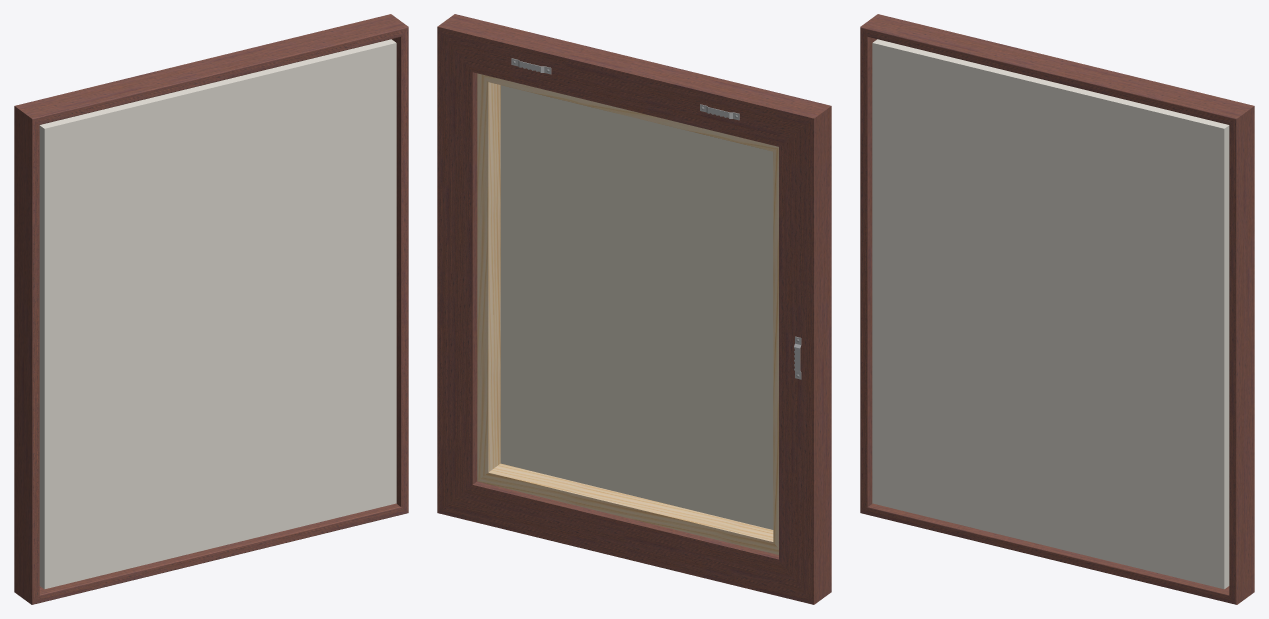
File: delivery.glb
The picture shows the model from 3 angles, left to right: view 1: azimuth 30°, elevation 25°; view 2: azimuth 150°, elevation 25°; view 3: azimuth 330°, elevation 25°; orthographic projection.
Parts seen in each view (by area): view 1: Canvas artwork front, Tray approved profile 0; view 2: Canvas linen reverse, Tray approved profile 0, Stretcher top, Sawtooth hanger 0; view 3: Canvas artwork front, Tray approved profile 0.
Part boxes in pixels (x1=…): Canvas artwork front: x1=39, y1=39, x2=396, y2=589; Tray approved profile 0: x1=14, y1=14, x2=408, y2=604; Canvas linen reverse: x1=500, y1=85, x2=773, y2=529; Tray approved profile 0: x1=437, y1=14, x2=831, y2=604; Stretcher top: x1=477, y1=73, x2=778, y2=554; Sawtooth hanger 0: x1=511, y1=58, x2=801, y2=379; Canvas artwork front: x1=872, y1=39, x2=1229, y2=589; Tray approved profile 0: x1=860, y1=14, x2=1254, y2=604.
Bounding box in the file's own units: 0.428 × 0.528 × 0.0374.
Materials: 7 (3 with a texture image).
